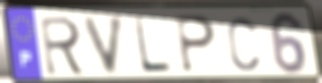6: (269, 10, 308, 76)
C: (226, 15, 262, 73)
L: (132, 15, 174, 75)
P: (174, 14, 217, 75)
R: (38, 14, 89, 77)
V: (80, 14, 127, 77)
